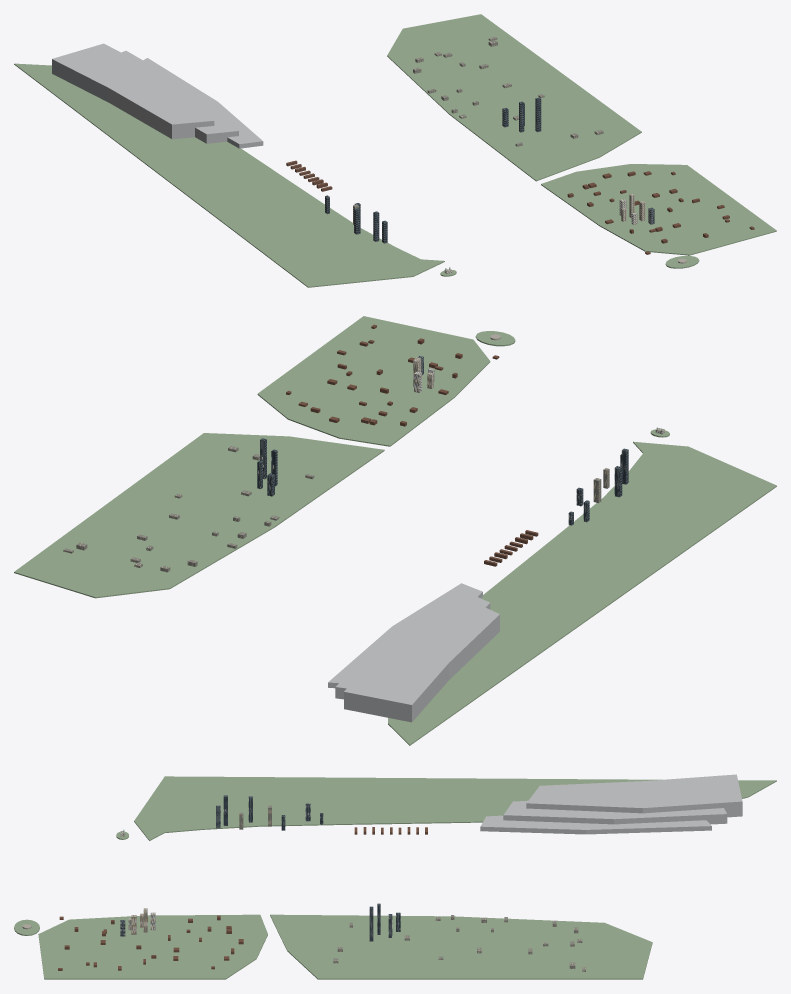
File: city_backdrop.glb
The picture shows the model from 3 angles, top to bottom: view 1: azimuth 30°, elevation 25°; view 2: azimuth 150°, elevation 25°; view 3: azimuth 270°, elevation 25°; orthographic projection. The views are drawn at different scales.
Parts seen in each view (by area): view 1: city_backdrop_backdrop_grass, city_backdrop_concrete, city_backdrop_facade_brick_b, city_backdrop_facade_glass_a, city_backdrop_facade_panel; view 2: city_backdrop_backdrop_grass, city_backdrop_concrete, city_backdrop_facade_brick_b, city_backdrop_facade_glass_a, city_backdrop_facade_panel; view 3: city_backdrop_backdrop_grass, city_backdrop_concrete, city_backdrop_facade_glass_a, city_backdrop_facade_brick_b, city_backdrop_facade_panel.
Part boxes in pixels (x1,y1,x2,y2): city_backdrop_backdrop_grass: (14, 14, 776, 287); city_backdrop_concrete: (52, 43, 263, 148); city_backdrop_facade_brick_b: (286, 160, 754, 254); city_backdrop_facade_glass_a: (325, 97, 541, 243); city_backdrop_facade_panel: (353, 36, 603, 224); city_backdrop_backdrop_grass: (14, 316, 776, 745); city_backdrop_concrete: (328, 583, 499, 722); city_backdrop_facade_brick_b: (286, 324, 538, 566); city_backdrop_facade_glass_a: (257, 438, 628, 525); city_backdrop_facade_panel: (63, 446, 609, 572); city_backdrop_backdrop_grass: (14, 776, 776, 979); city_backdrop_concrete: (480, 774, 742, 834); city_backdrop_facade_glass_a: (216, 795, 400, 941); city_backdrop_facade_brick_b: (58, 827, 427, 970); city_backdrop_facade_panel: (239, 805, 585, 971).
Size of the model in its own units: 2500 by 196 by 3988.
Materials: 10 (6 with a texture image).
